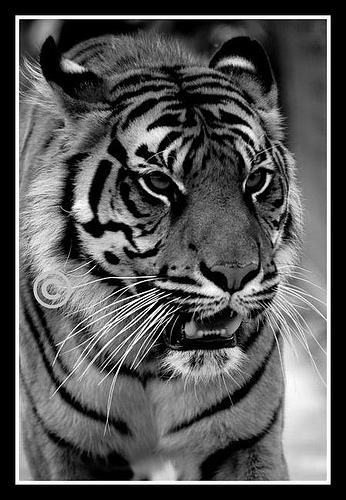Tigre: (29, 30, 299, 464)
